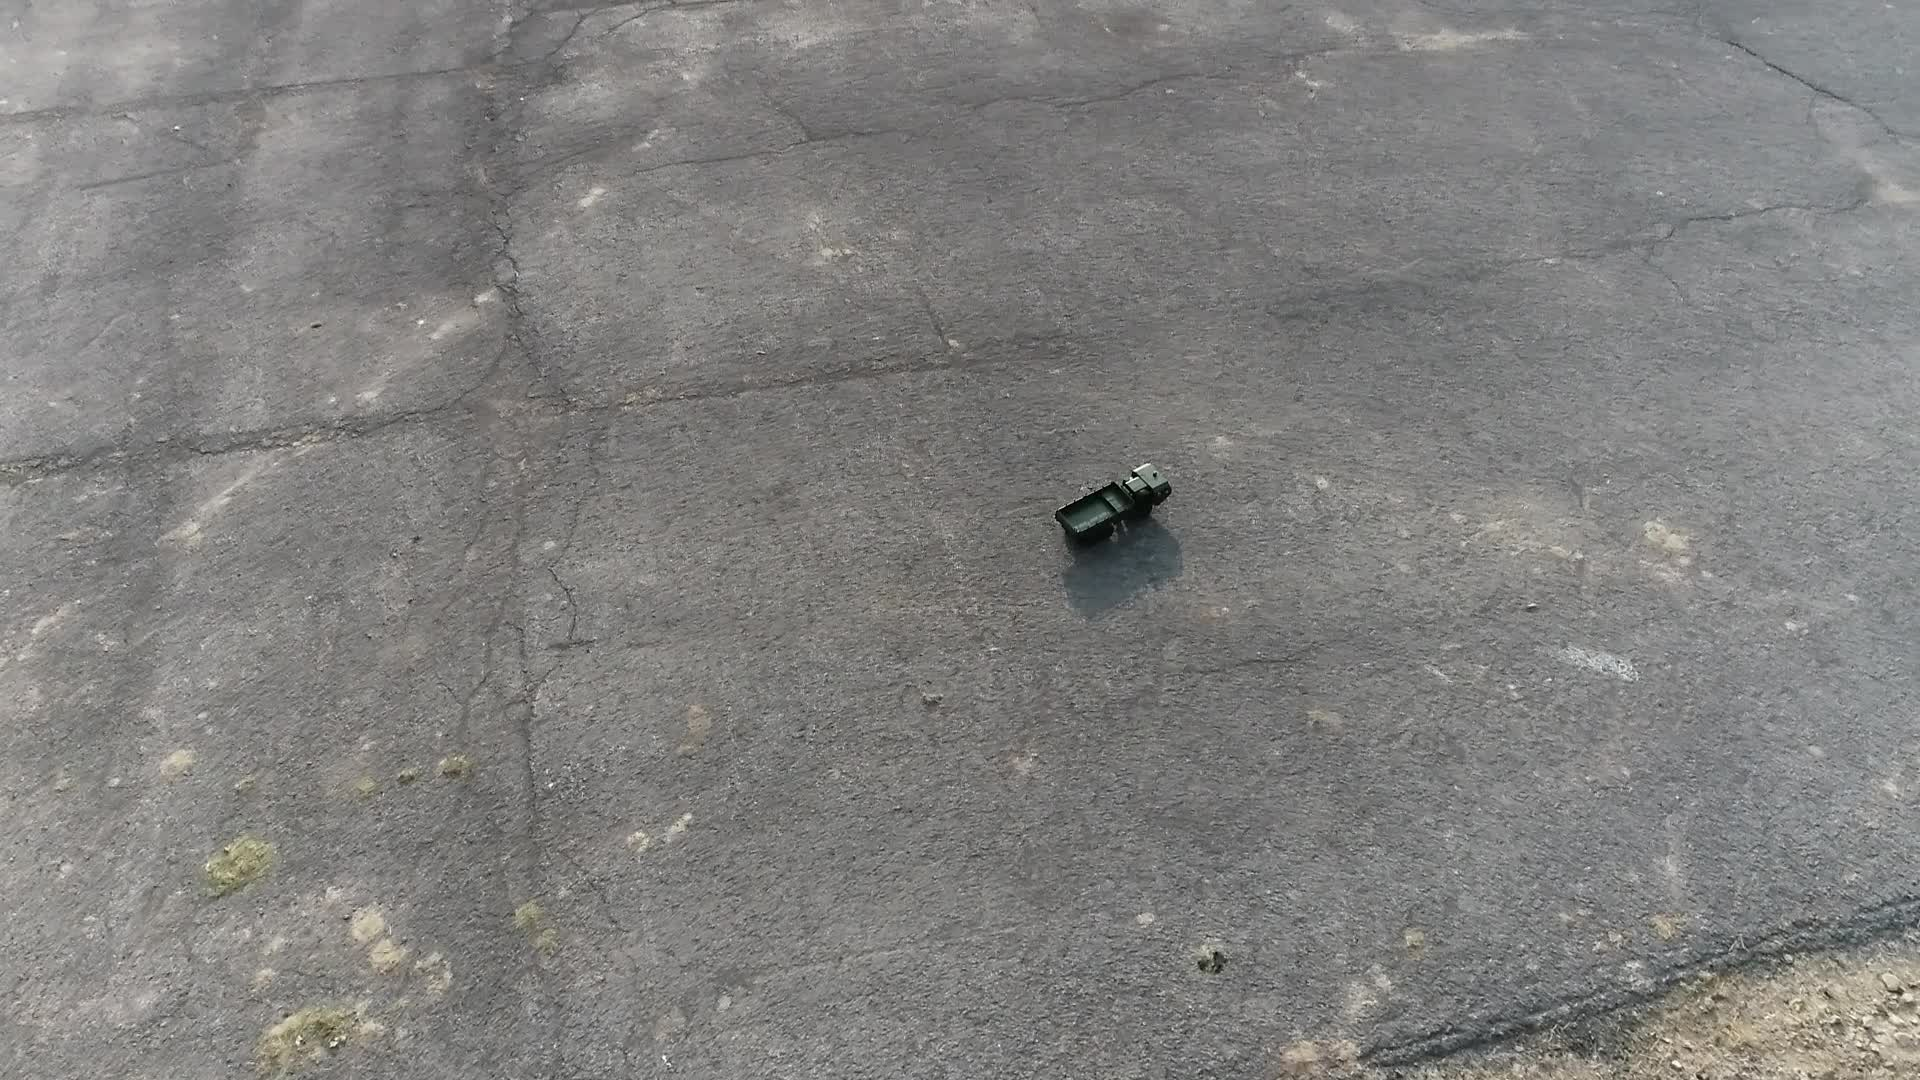transporter9: (1044, 462, 1174, 551)
